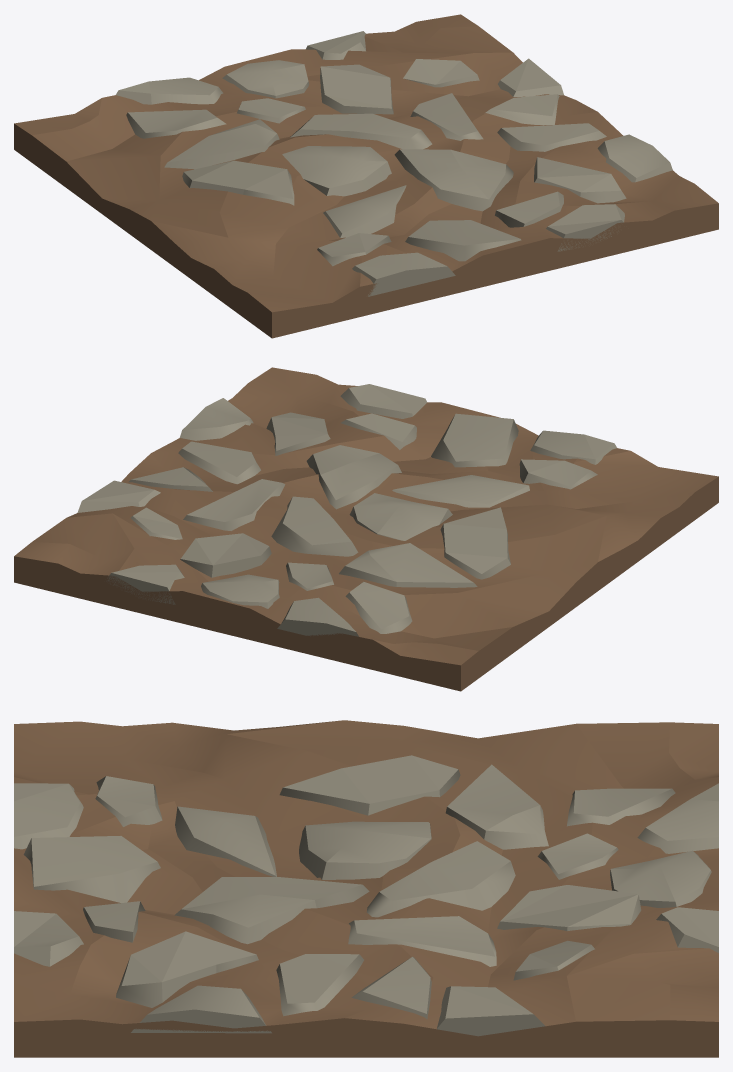
The model's file is Ground_Stone_Path_Crossroads_R.glb.
3 renders of one model, top to bottom at view 1: azimuth 30°, elevation 25°; view 2: azimuth 150°, elevation 25°; view 3: azimuth 270°, elevation 25°, orthographic. The views are drawn at different scales.
Parts seen in each view (by area): view 1: Ground_Stone_Path_Crossroads_R; view 2: Ground_Stone_Path_Crossroads_R; view 3: Ground_Stone_Path_Crossroads_R.
Part boxes in pixels (x1,y1,x2,y2): Ground_Stone_Path_Crossroads_R: (14, 14, 718, 338); Ground_Stone_Path_Crossroads_R: (14, 367, 718, 691); Ground_Stone_Path_Crossroads_R: (14, 720, 718, 1057).
Bounding box in the file's own units: 1.47 × 0.1343 × 1.47.
